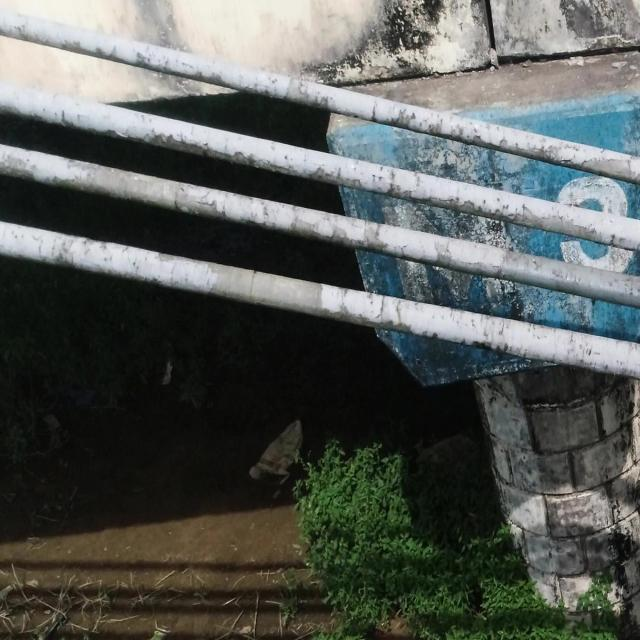crack: (374, 296, 384, 318), (250, 270, 256, 292), (395, 301, 401, 322), (371, 100, 377, 119), (400, 245, 406, 257), (500, 318, 504, 336), (610, 232, 615, 245), (164, 58, 169, 70), (38, 242, 42, 257), (171, 267, 174, 286), (61, 110, 65, 124), (174, 196, 178, 210), (449, 308, 454, 318)
